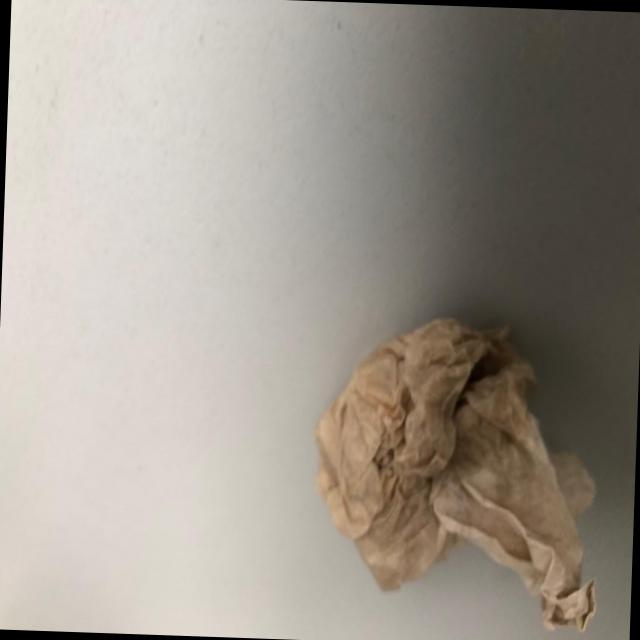organic waste: (306, 315, 608, 633)
